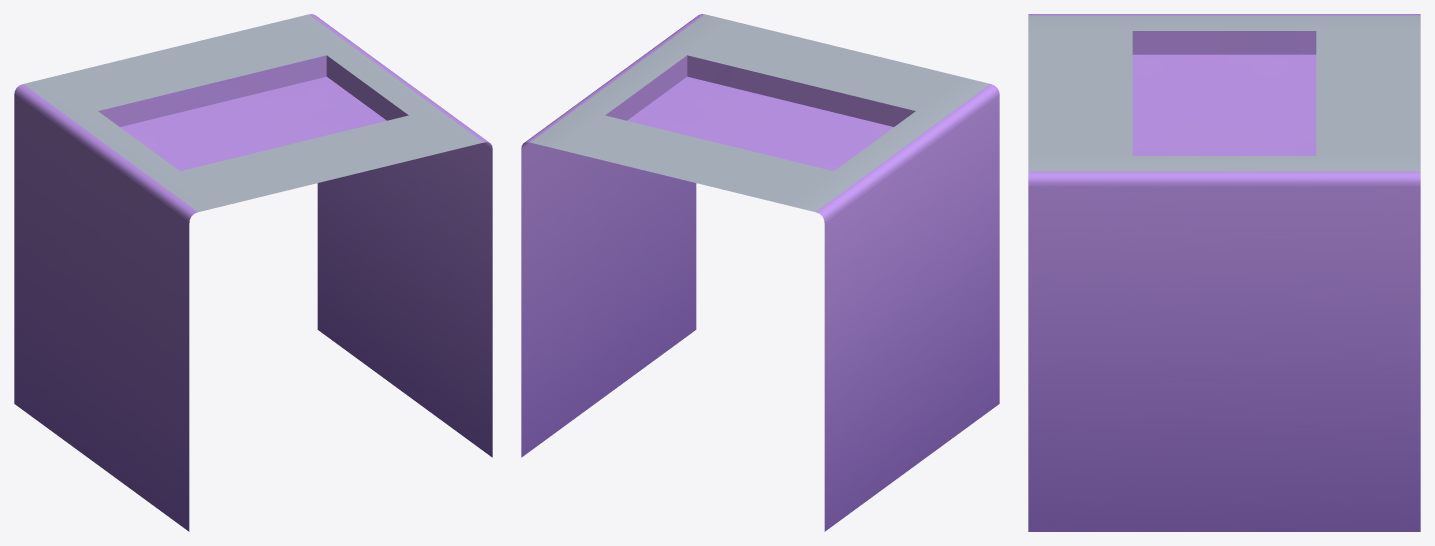
Rendered from Platform_Pool.fbx.
3 views of the same model, side by side, from view 1: azimuth 30°, elevation 25°; view 2: azimuth 150°, elevation 25°; view 3: azimuth 270°, elevation 25° (orthographic). The views are drawn at different scales.
Parts seen in each view (by area): view 1: Platform_Pool; view 2: Platform_Pool; view 3: Platform_Pool.
Part boxes in pixels (bbox=[...]): Platform_Pool: bbox=[14, 14, 492, 531]; Platform_Pool: bbox=[521, 14, 999, 531]; Platform_Pool: bbox=[1028, 14, 1420, 531].
Size of the model in its own units: 500 by 500 by 500.
